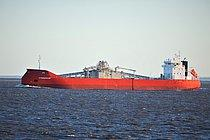Ship: (19, 45, 207, 96)
